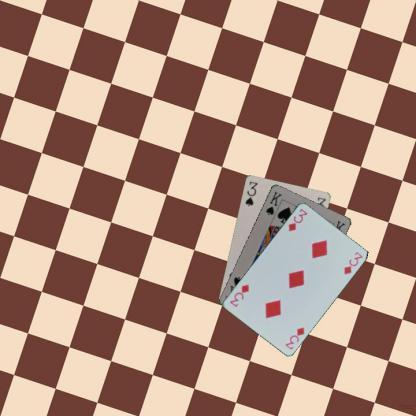3d: (283, 324, 306, 351), (286, 206, 308, 233)
3s: (243, 178, 259, 208)
Ks: (263, 188, 283, 216)
